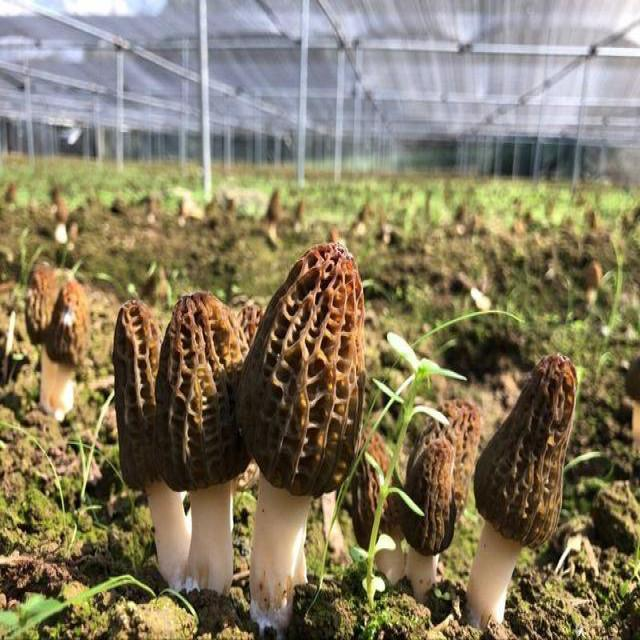Morchella esculenta: (246, 242, 363, 622), (474, 353, 578, 619), (159, 288, 250, 589), (116, 299, 190, 586), (406, 401, 480, 594), (26, 269, 84, 419), (356, 422, 405, 585)
